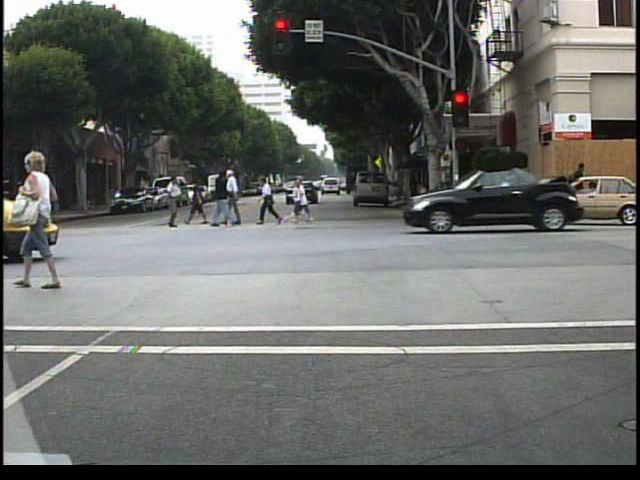person: (26, 148, 82, 294), (156, 173, 184, 231), (210, 168, 235, 232), (257, 174, 286, 228), (12, 193, 45, 240), (225, 166, 250, 227), (567, 157, 589, 216), (188, 178, 212, 230), (12, 181, 33, 235)
